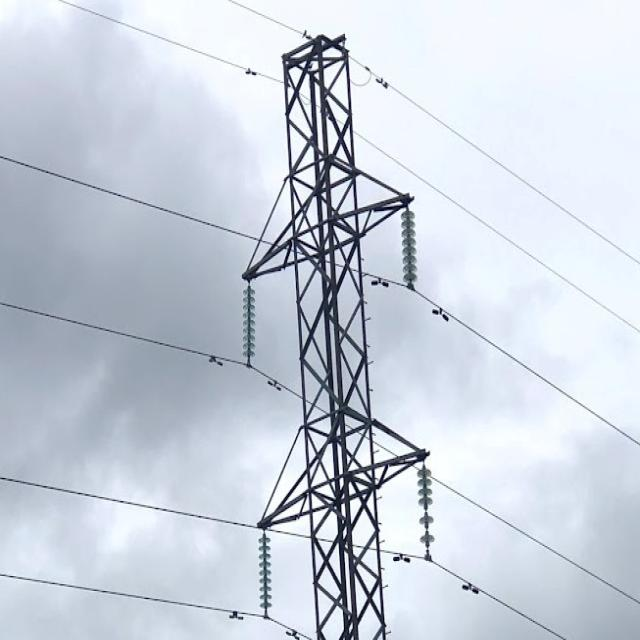杆塔: (237, 18, 438, 640)
正常绝缘子: (412, 454, 439, 566), (396, 193, 422, 297), (257, 532, 277, 616), (240, 269, 255, 376)
绝缘子破损: (423, 506, 429, 515), (424, 524, 429, 532)
